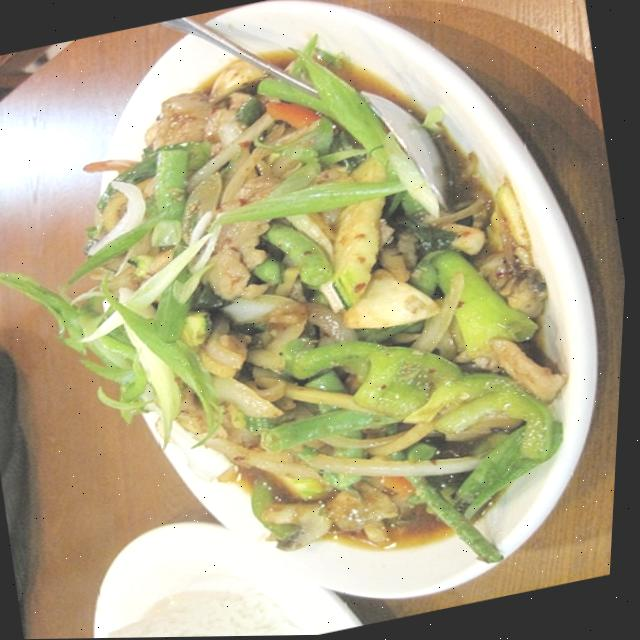蔬菜料理: (11, 0, 640, 629)
